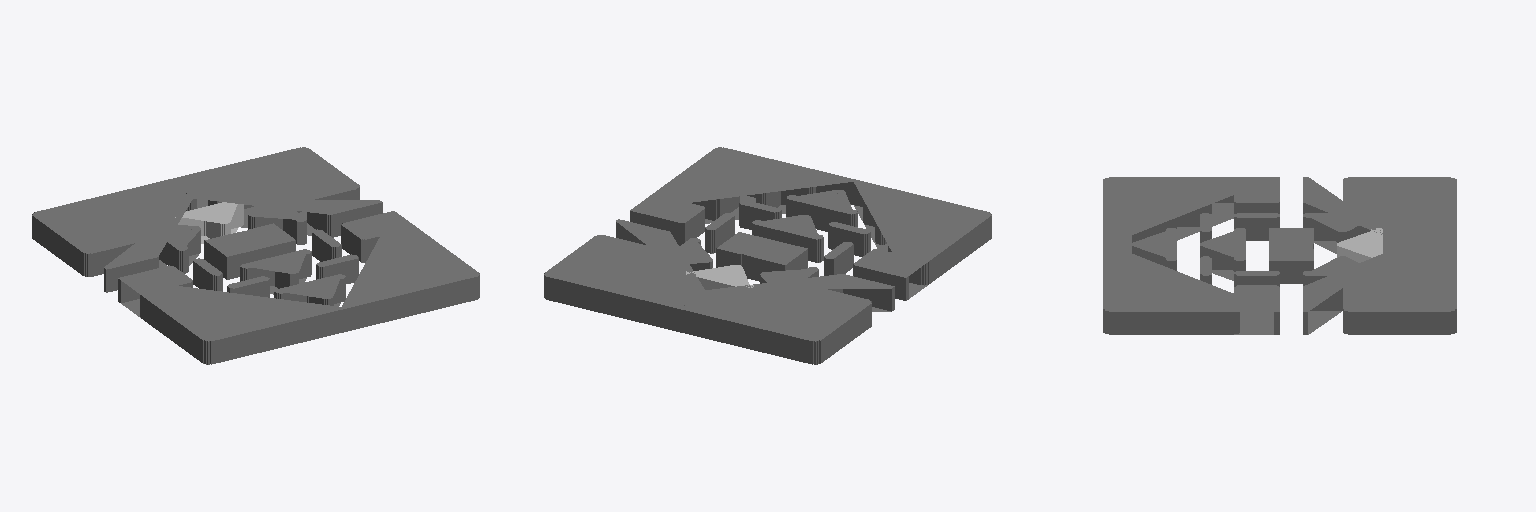
The model's file is board.obj.
3 views of the same model, side by side, from view 1: azimuth 30°, elevation 25°; view 2: azimuth 150°, elevation 25°; view 3: azimuth 270°, elevation 25° (orthographic).
Parts seen in each view (by area): view 1: polySurface166; view 2: polySurface166; view 3: polySurface166.
Boxes of the visible parts, box(x1,y1,x2,y2) form: polySurface166: box(32, 147, 479, 364); polySurface166: box(544, 147, 991, 364); polySurface166: box(1103, 177, 1456, 334).
Size of the model in its own units: 2.24 by 0.18 by 2.48.